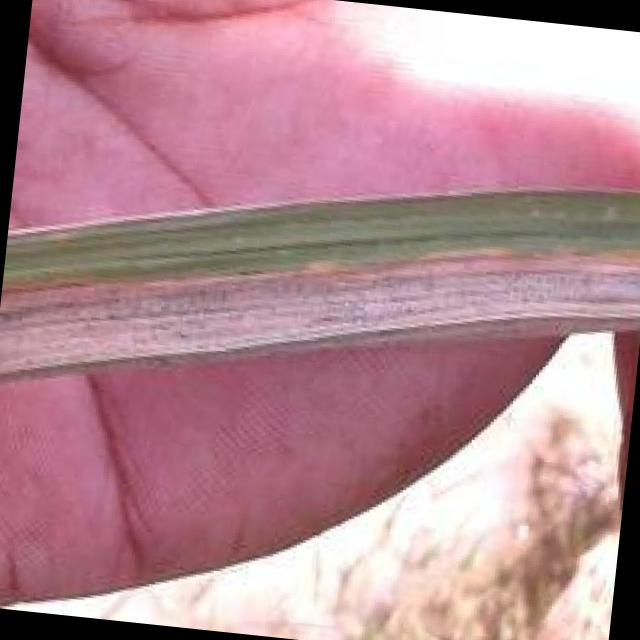Rice_Bacterial_Blight: (6, 202, 624, 397)
